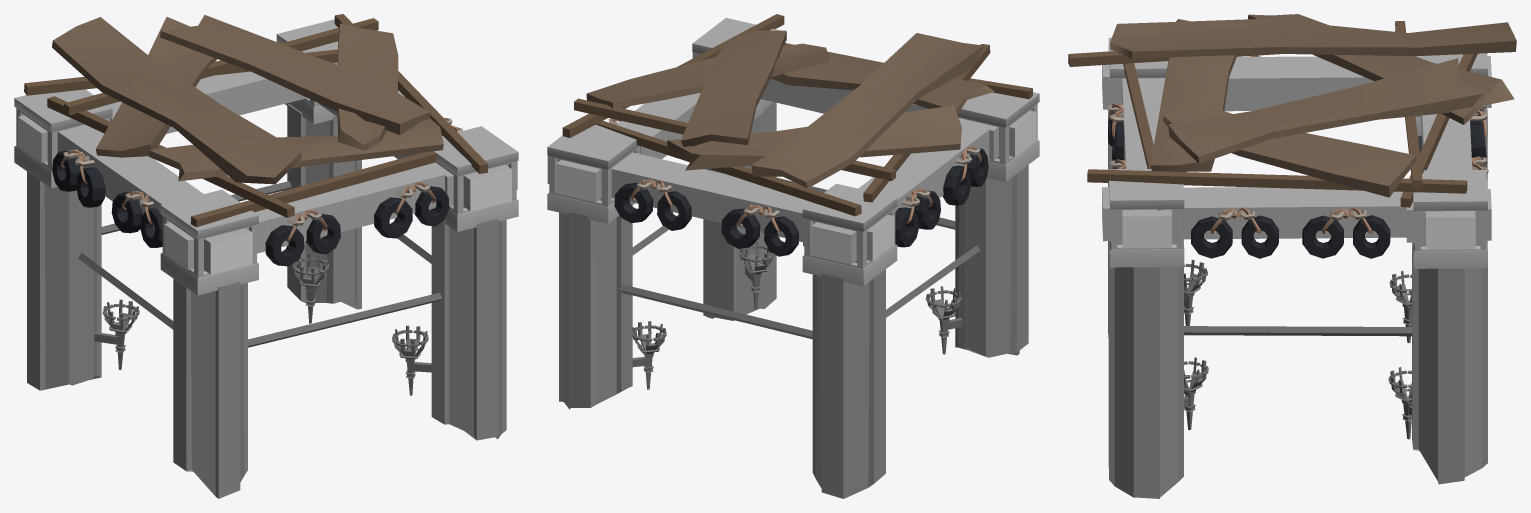
3 renders of one model, left to right at view 1: azimuth 30°, elevation 25°; view 2: azimuth 150°, elevation 25°; view 3: azimuth 270°, elevation 25°, orthographic. The views are drawn at different scales.
Visible parts, largest first — view 1: segment_4_4; view 2: segment_4_4; view 3: segment_4_4.
Boxes of the visible parts, x1=… form: segment_4_4: x1=14, y1=14, x2=518, y2=498; segment_4_4: x1=547, y1=14, x2=1039, y2=498; segment_4_4: x1=1068, y1=14, x2=1516, y2=498.
Size of the model in its own units: 20.67 by 19.4 by 22.7.
